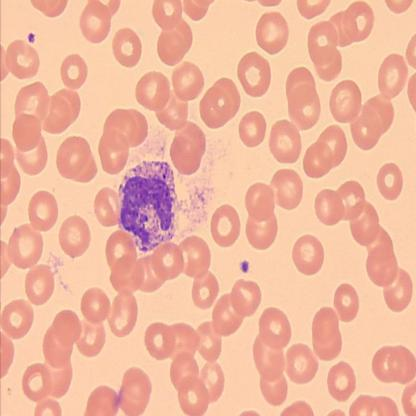Basophil: (115, 157, 179, 252)
